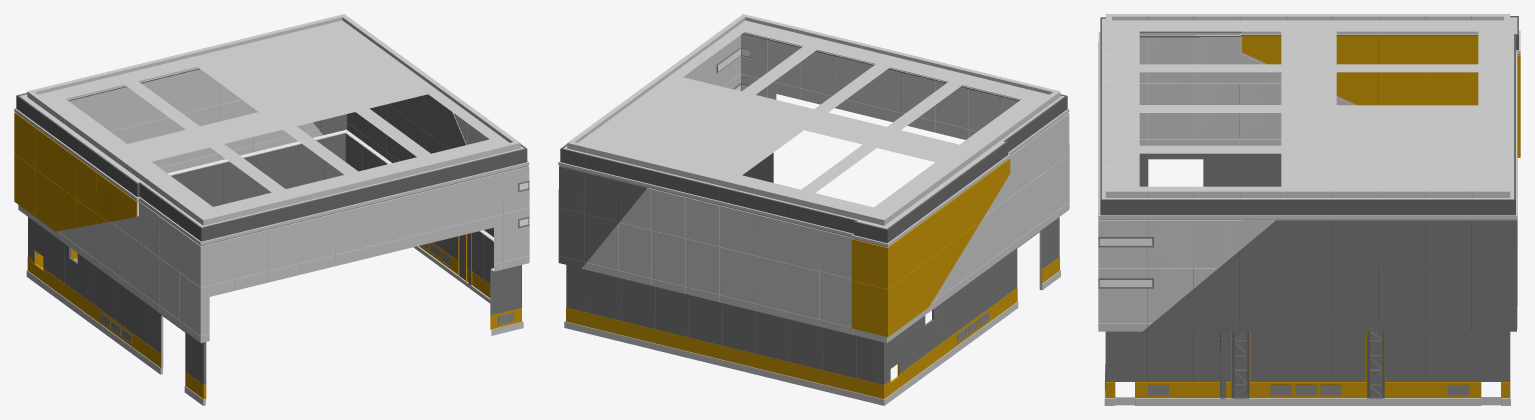
3 renders of one model, left to right at view 1: azimuth 30°, elevation 25°; view 2: azimuth 150°, elevation 25°; view 3: azimuth 270°, elevation 25°, orthographic. The views are drawn at different scales.
Visible parts, largest first — view 1: SM_H_Building_FutureTech_AssemblyArea_ExterWall_01D; view 2: SM_H_Building_FutureTech_AssemblyArea_ExterWall_01D; view 3: SM_H_Building_FutureTech_AssemblyArea_ExterWall_01D.
Part boxes in pixels (bbox=[...]): SM_H_Building_FutureTech_AssemblyArea_ExterWall_01D: bbox=[14, 14, 529, 405]; SM_H_Building_FutureTech_AssemblyArea_ExterWall_01D: bbox=[558, 14, 1069, 405]; SM_H_Building_FutureTech_AssemblyArea_ExterWall_01D: bbox=[1098, 14, 1520, 405].
Size of the model in its own units: 2208 by 2296 by 1227.
